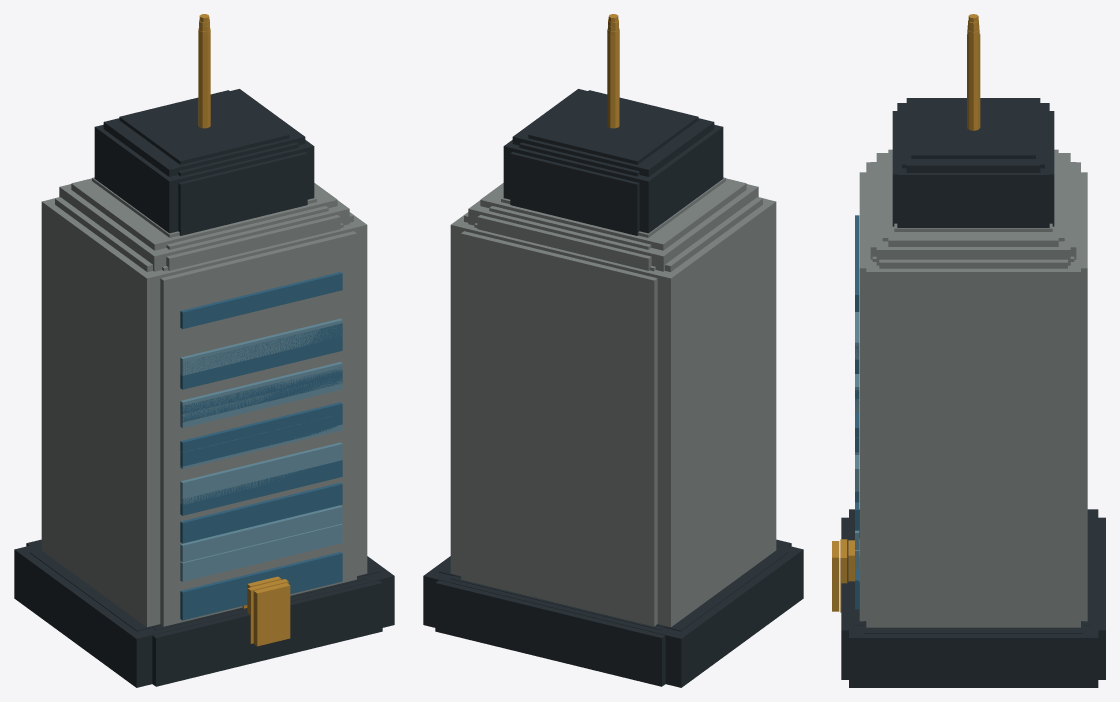
File: urban.b902debab016.glb
3 renders of one model, left to right at view 1: azimuth 30°, elevation 25°; view 2: azimuth 150°, elevation 25°; view 3: azimuth 270°, elevation 25°, orthographic.
Visible parts, largest first — view 1: public-library__near, city-hotel__near, clock-tower__near, university-hall__near, mixed-use-podium__near, office-glass__near, public-library__far, city-hotel__far, broadcast-tower__far, hospital-block__far, hospital-block__near, transit-hub__far (+1 smaller); view 2: public-library__near, office-glass__near, university-hall__near, city-hotel__near, mixed-use-podium__near, public-library__far, city-hotel__far, broadcast-tower__far, hospital-block__far, clock-tower__near, hospital-block__near, transit-hub__far (+1 smaller); view 3: mixed-use-podium__near, university-hall__near, city-hotel__near, city-hotel__far, broadcast-tower__far, public-library__near, hospital-block__far, office-glass__near, hospital-block__near, public-library__far, clock-tower__near, transit-hub__far (+1 smaller).
Part boxes in pixels (x1,y1,x2,y2): public-library__near: [26, 34, 382, 685]; city-hotel__near: [14, 28, 394, 686]; clock-tower__near: [153, 115, 382, 686]; university-hall__near: [14, 110, 394, 686]; mixed-use-podium__near: [14, 282, 394, 687]; office-glass__near: [152, 309, 382, 686]; public-library__far: [166, 152, 340, 270]; city-hotel__far: [59, 124, 349, 271]; broadcast-tower__far: [92, 90, 316, 237]; hospital-block__far: [71, 89, 337, 250]; hospital-block__near: [29, 19, 378, 631]; transit-hub__far: [166, 142, 328, 249]; public-library__near: [435, 34, 791, 685]; office-glass__near: [435, 303, 665, 686]; university-hall__near: [423, 111, 803, 687]; city-hotel__near: [423, 28, 803, 687]; mixed-use-podium__near: [423, 288, 803, 687]; public-library__far: [477, 152, 651, 270]; city-hotel__far: [468, 124, 758, 271]; broadcast-tower__far: [501, 90, 725, 237]; hospital-block__far: [480, 89, 746, 250]; clock-tower__near: [435, 115, 665, 685]; hospital-block__near: [439, 19, 788, 631]; transit-hub__far: [489, 142, 651, 249]; mixed-use-podium__near: [840, 343, 1098, 687]; university-hall__near: [840, 112, 1098, 687]; city-hotel__near: [840, 29, 1098, 687]; city-hotel__far: [876, 103, 1070, 265]; broadcast-tower__far: [894, 101, 1052, 231]; public-library__near: [832, 34, 1105, 679]; hospital-block__far: [888, 98, 1058, 246]; office-glass__near: [832, 339, 1105, 679]; hospital-block__near: [859, 20, 1082, 633]; public-library__far: [870, 111, 1076, 259]; clock-tower__near: [832, 116, 1104, 679]; transit-hub__far: [882, 106, 1064, 241].
Bounding box in the file's own units: 0.9348 × 2.06 × 0.8418.
